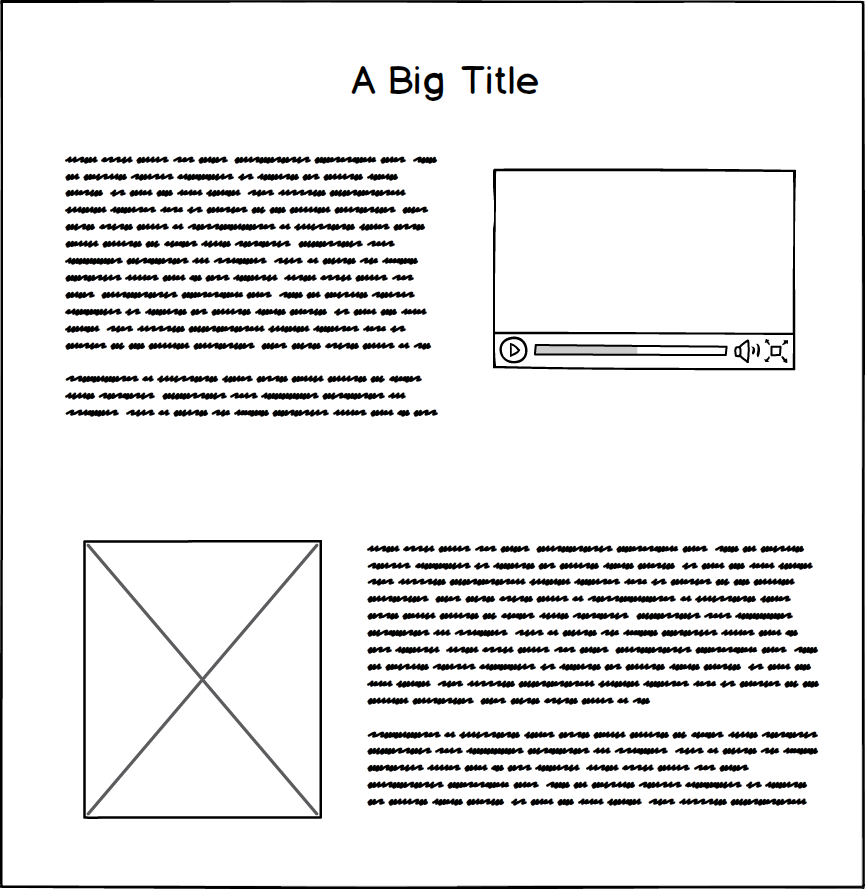h1: (343, 63, 544, 104)
image: (80, 535, 332, 825)
p: (356, 540, 830, 819), (56, 144, 444, 428)
video: (490, 165, 806, 377)
